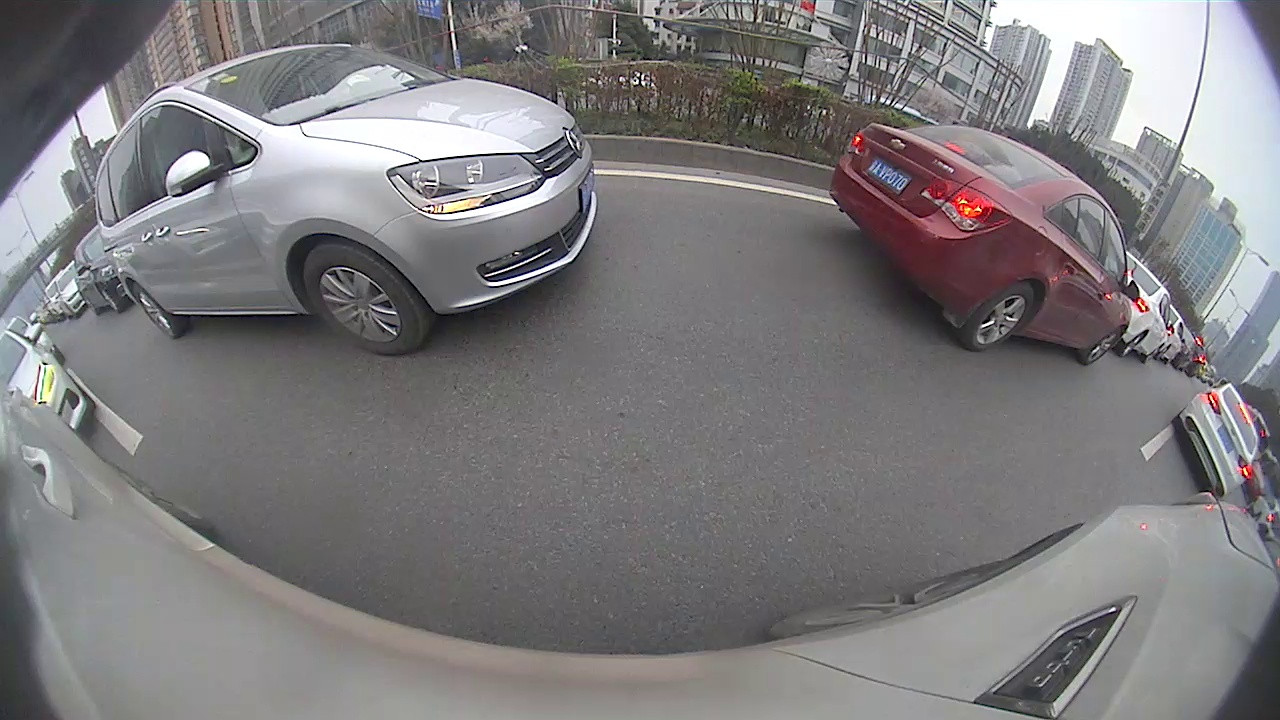car: (94, 46, 600, 357), (828, 123, 1142, 368), (1171, 383, 1261, 501)
front: (304, 241, 426, 355), (1083, 326, 1123, 366)
rear: (961, 284, 1034, 351), (127, 280, 179, 340)
